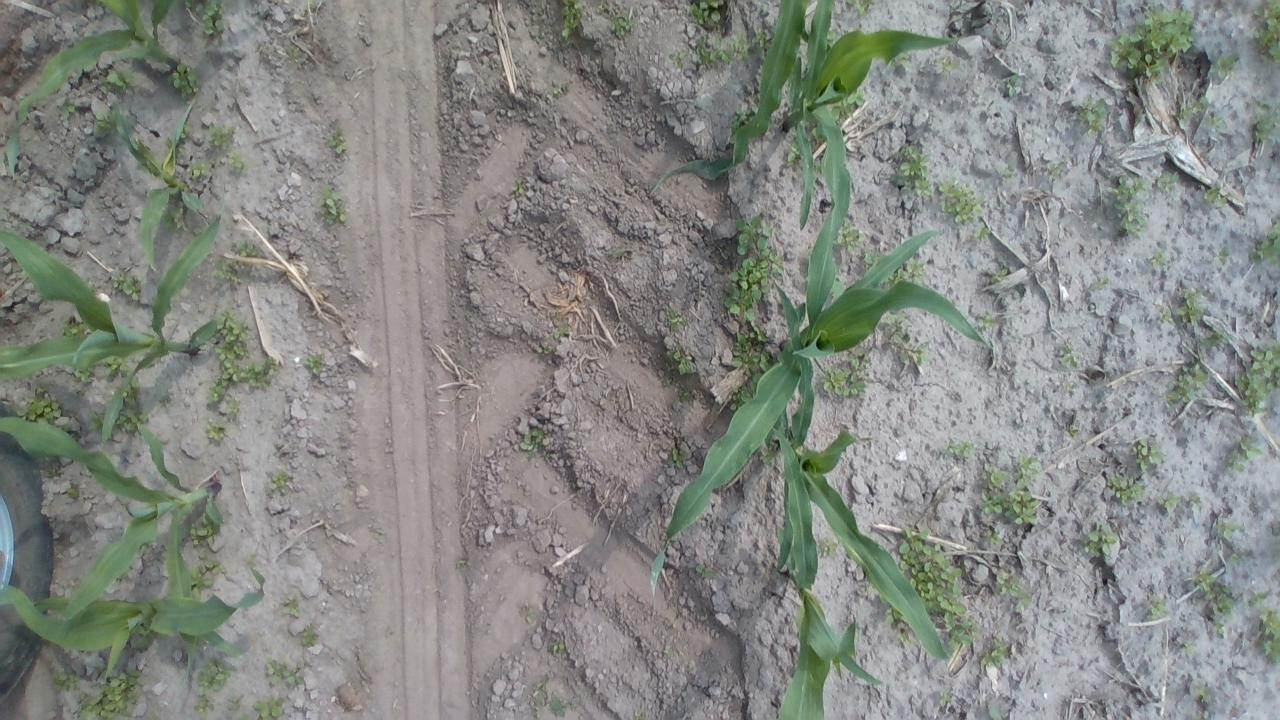Maize: (651, 170, 996, 600), (768, 280, 954, 662), (0, 416, 226, 646), (0, 212, 221, 441), (781, 0, 958, 232), (766, 426, 885, 720), (0, 557, 266, 682), (5, 0, 183, 175), (646, 0, 809, 190), (112, 100, 202, 274)
Weeds: (885, 524, 982, 648), (1104, 6, 1198, 86), (724, 218, 785, 322), (212, 308, 278, 390), (76, 666, 144, 720), (1234, 340, 1280, 419), (694, 26, 772, 68), (1193, 568, 1237, 638), (1109, 173, 1150, 242), (1247, 588, 1280, 663), (979, 487, 1040, 526), (938, 176, 985, 224), (894, 145, 934, 198), (1164, 360, 1210, 406), (732, 327, 773, 378), (1253, 0, 1280, 66), (184, 0, 227, 38), (837, 354, 873, 398), (1082, 518, 1120, 558), (1226, 432, 1264, 472), (22, 388, 64, 422), (205, 378, 243, 415), (598, 1, 634, 38), (996, 570, 1031, 608), (1106, 472, 1146, 505), (317, 183, 348, 225), (830, 84, 866, 120), (1080, 92, 1108, 137), (885, 258, 927, 288), (195, 658, 232, 692), (265, 656, 304, 688), (1252, 220, 1280, 263), (169, 62, 200, 100), (188, 560, 222, 594), (1174, 290, 1206, 326), (1251, 106, 1280, 144), (730, 372, 758, 411), (189, 516, 221, 550), (110, 270, 144, 302), (517, 428, 552, 459), (560, 0, 584, 45), (821, 362, 850, 397), (1134, 439, 1164, 472), (688, 0, 724, 27), (1013, 454, 1043, 486), (667, 346, 697, 378), (980, 638, 1011, 668), (100, 66, 134, 93), (116, 404, 146, 434), (48, 668, 82, 694), (836, 221, 864, 252), (252, 695, 286, 720), (730, 104, 760, 132), (94, 107, 120, 138), (899, 343, 931, 368), (56, 318, 90, 340), (886, 315, 910, 346), (206, 124, 234, 150), (982, 460, 1008, 488), (212, 260, 242, 284), (1156, 169, 1184, 194), (1212, 52, 1238, 78), (943, 439, 976, 459), (325, 126, 347, 156), (550, 310, 572, 340), (666, 443, 688, 472), (1212, 516, 1242, 537), (1180, 96, 1205, 121), (1203, 184, 1230, 207), (162, 209, 189, 232), (120, 378, 142, 406), (1146, 595, 1170, 620), (104, 356, 130, 379), (1157, 491, 1183, 514), (981, 266, 1009, 286), (185, 159, 211, 180), (982, 528, 1008, 548), (1200, 328, 1226, 348), (935, 54, 962, 73), (1204, 112, 1228, 133), (1058, 344, 1079, 368), (666, 310, 688, 332), (1192, 681, 1213, 704), (298, 622, 318, 646), (282, 594, 302, 618), (235, 240, 260, 259), (304, 352, 325, 374), (1179, 641, 1200, 663), (861, 249, 886, 267), (71, 366, 96, 384), (610, 245, 640, 260), (1044, 161, 1070, 178), (1004, 72, 1021, 98), (1149, 248, 1172, 267), (1056, 378, 1080, 396), (1230, 546, 1248, 570), (87, 408, 105, 432), (786, 143, 803, 168), (820, 536, 840, 557), (268, 472, 288, 493), (756, 446, 776, 467), (694, 565, 716, 584), (846, 0, 875, 14), (227, 154, 247, 174), (546, 697, 566, 717), (998, 162, 1018, 182), (208, 421, 225, 444), (194, 696, 213, 716), (976, 314, 998, 331), (886, 52, 909, 68), (972, 226, 992, 244), (678, 390, 698, 408), (550, 80, 571, 97), (1158, 306, 1174, 328), (521, 606, 543, 622), (156, 392, 176, 409), (1212, 245, 1234, 260), (60, 99, 77, 117), (66, 484, 83, 502), (511, 178, 528, 196), (672, 50, 686, 71), (1186, 493, 1204, 509), (939, 692, 956, 708), (536, 676, 554, 691), (227, 694, 243, 710), (1090, 276, 1108, 290), (44, 465, 62, 479), (454, 555, 475, 567), (989, 704, 1004, 720), (1067, 424, 1084, 438), (862, 579, 877, 594), (286, 45, 303, 58), (548, 642, 566, 654), (1196, 709, 1212, 720), (536, 346, 553, 356), (661, 648, 673, 662), (632, 711, 649, 720), (304, 0, 318, 10), (1274, 543, 1280, 564), (828, 27, 836, 42), (240, 714, 250, 720)
